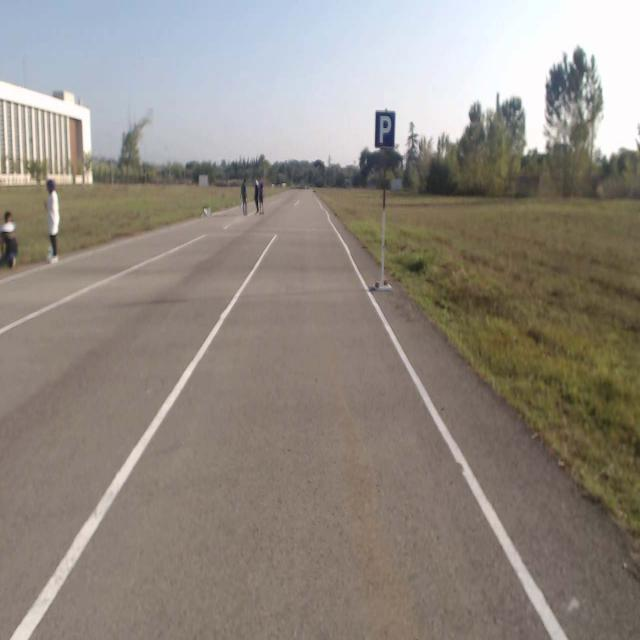park: (376, 110, 394, 147)
